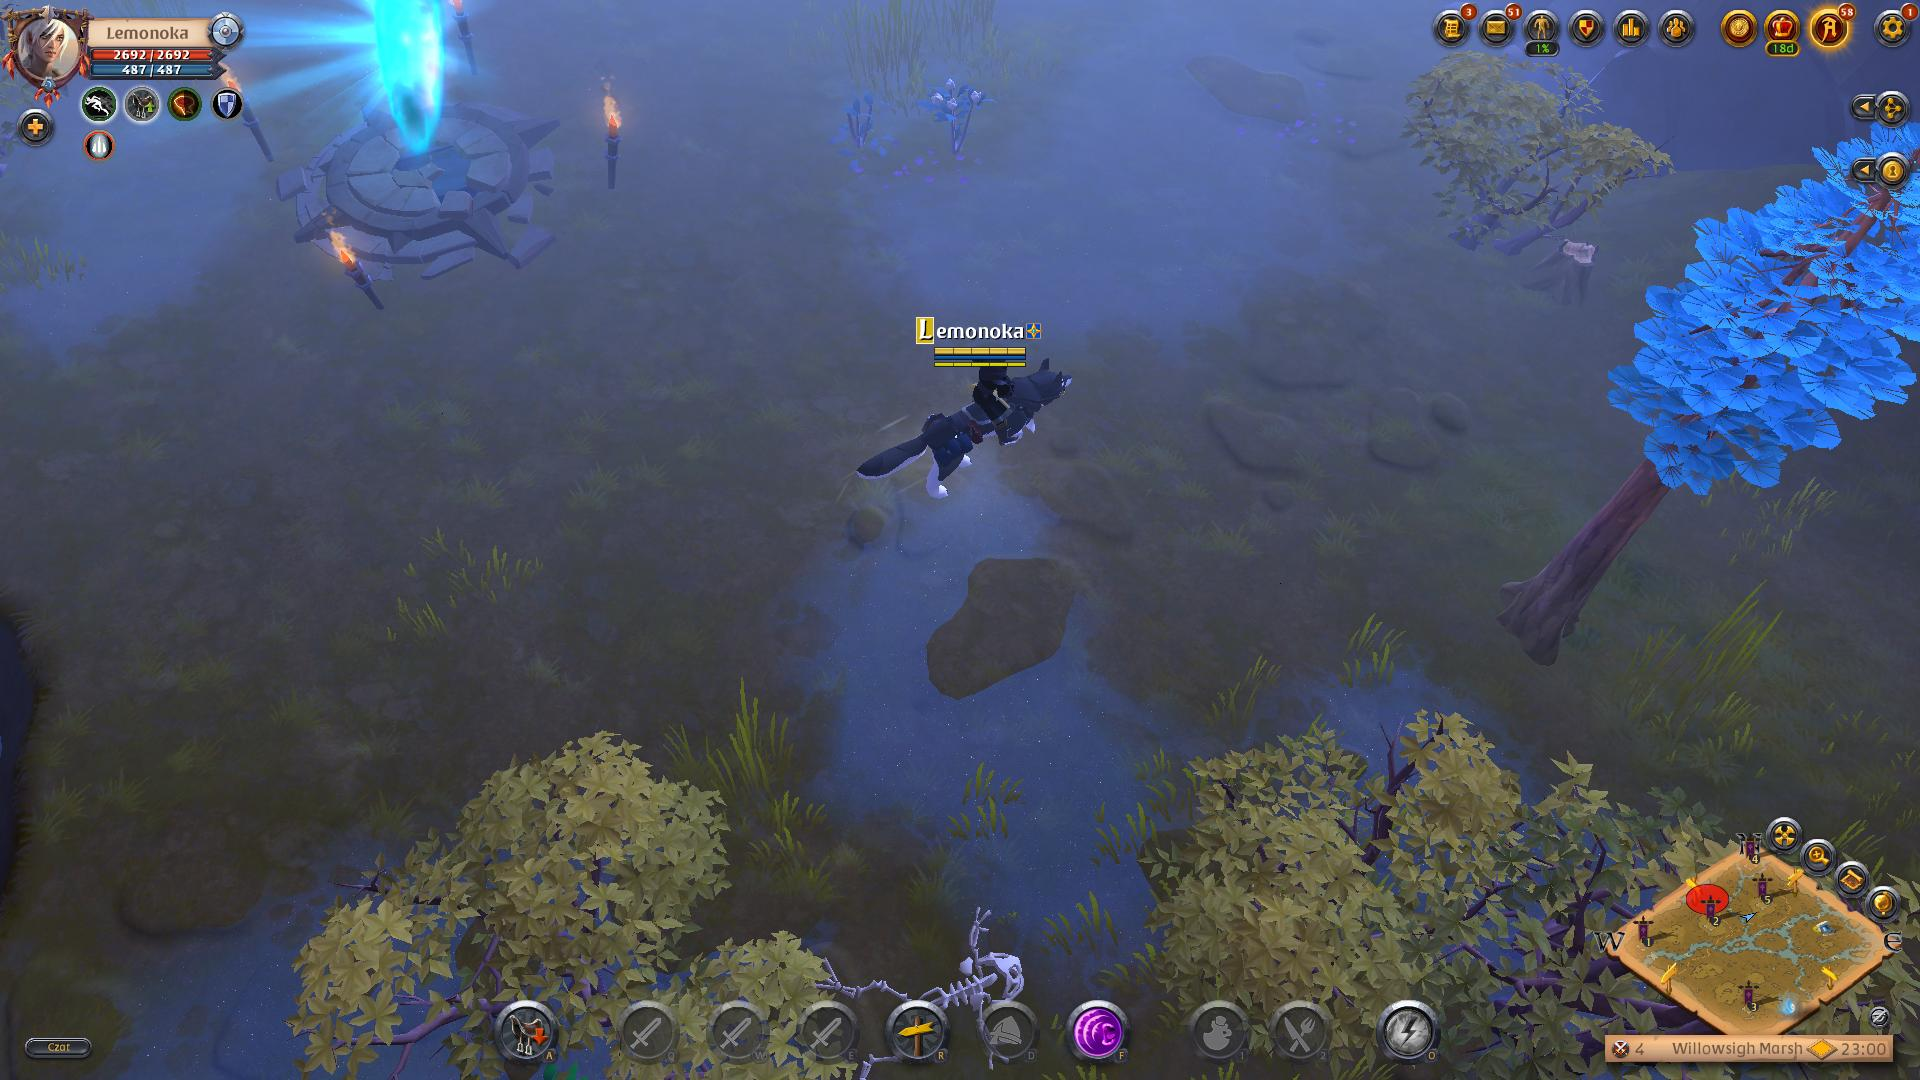fiber tier 4: (920, 75, 993, 156)
wood tier 4: (1605, 190, 1920, 504)
